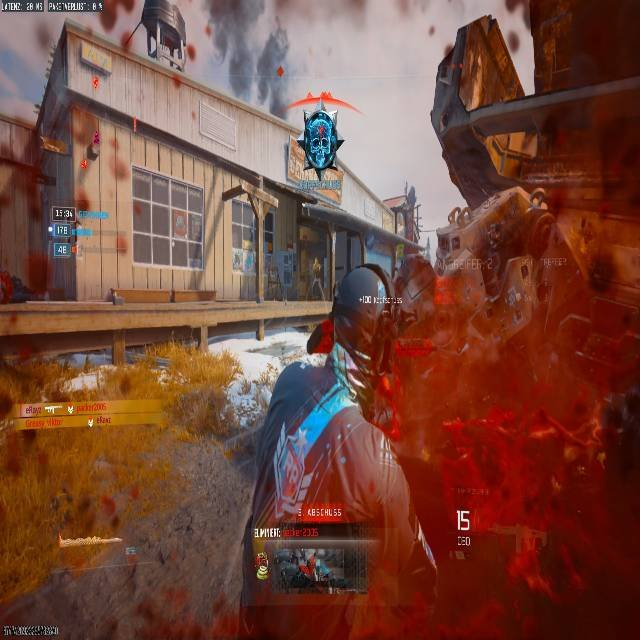head: (333, 265, 388, 345)
player: (257, 263, 440, 628)
